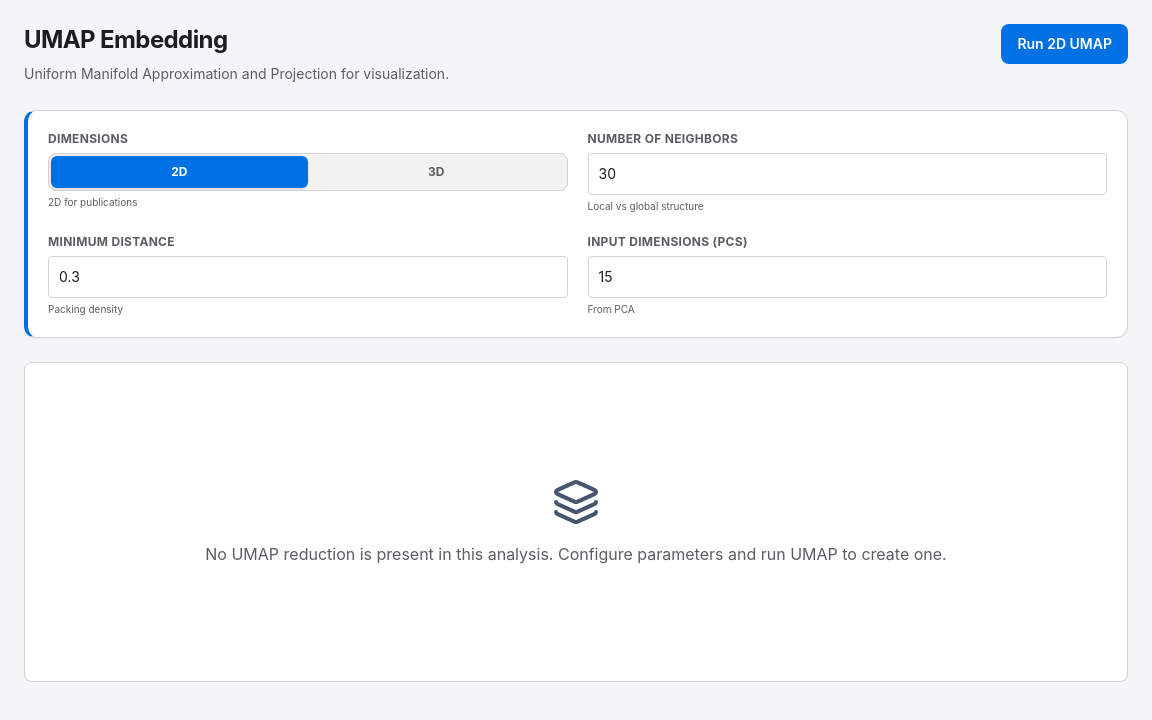
Test: UMAPView › retries short shared-compute contention and then renders the result
The width and height of the screenshot is (1152, 720).
Click the button "Run 2D UMAP": (1065, 44) [1001,24,1128,64]
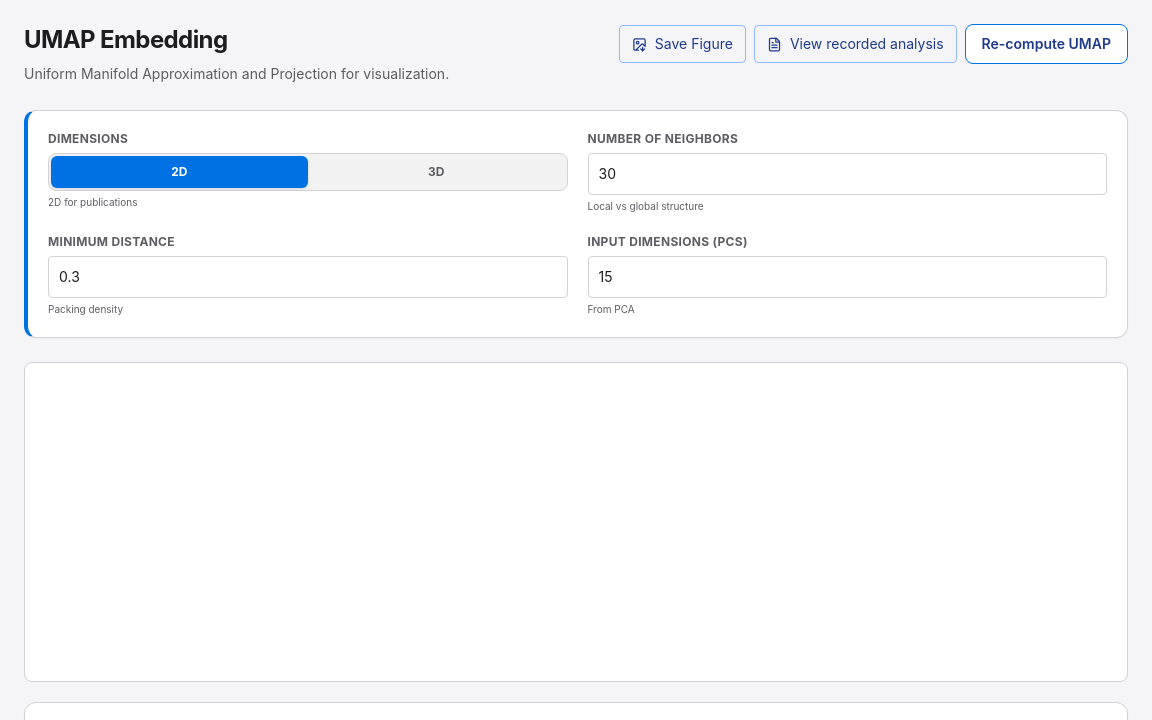
Check: the button "Re-compute UMAP" is shown, box [965,24,1128,64]
